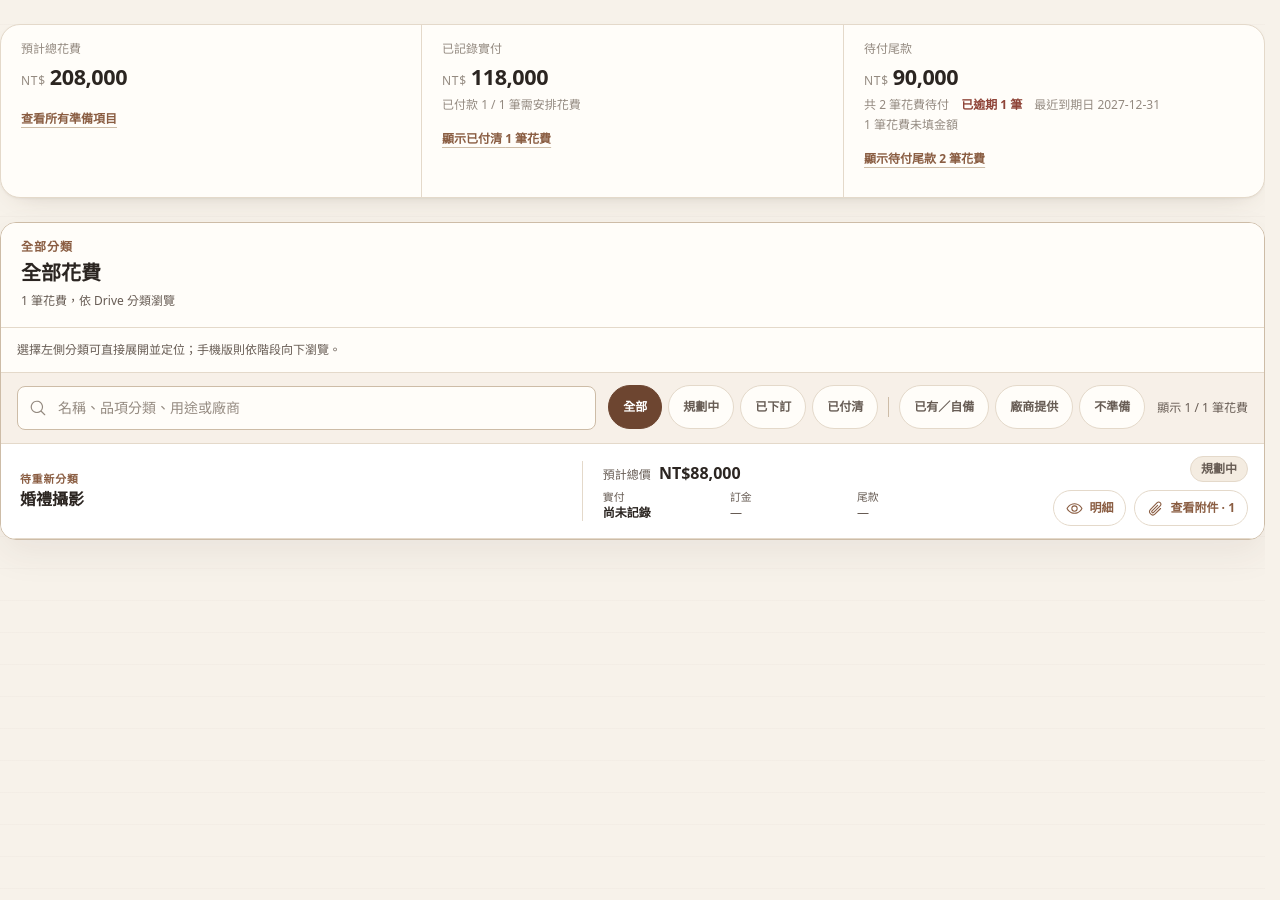
BudgetList › mentions attachments for read-only EXPENSE rows without exposing upload controls
Click the button "查看附件 · 1" at (1191, 508), box [1134, 490, 1248, 526]
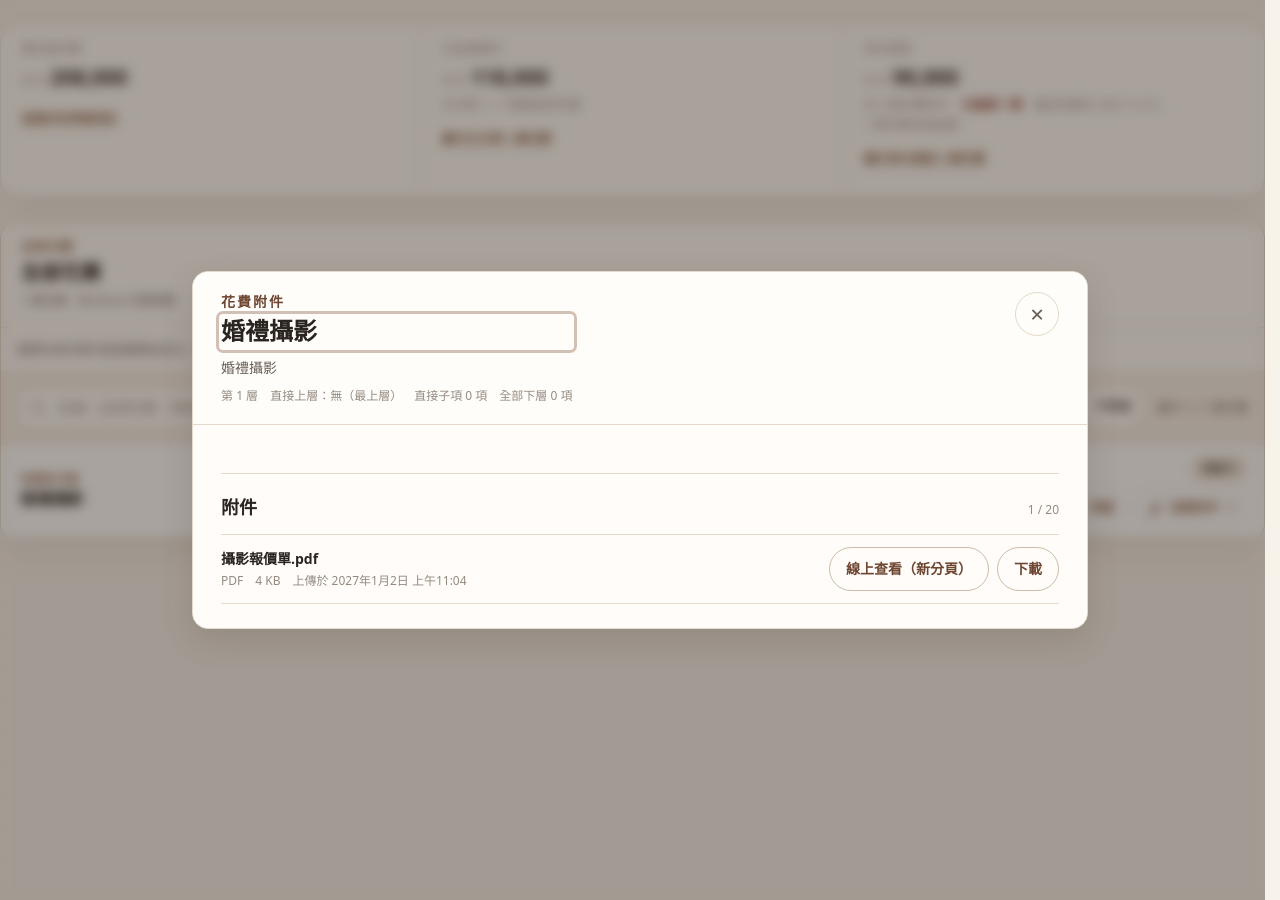
Expected: the heading "附件" is shown, [221, 494, 257, 522]
